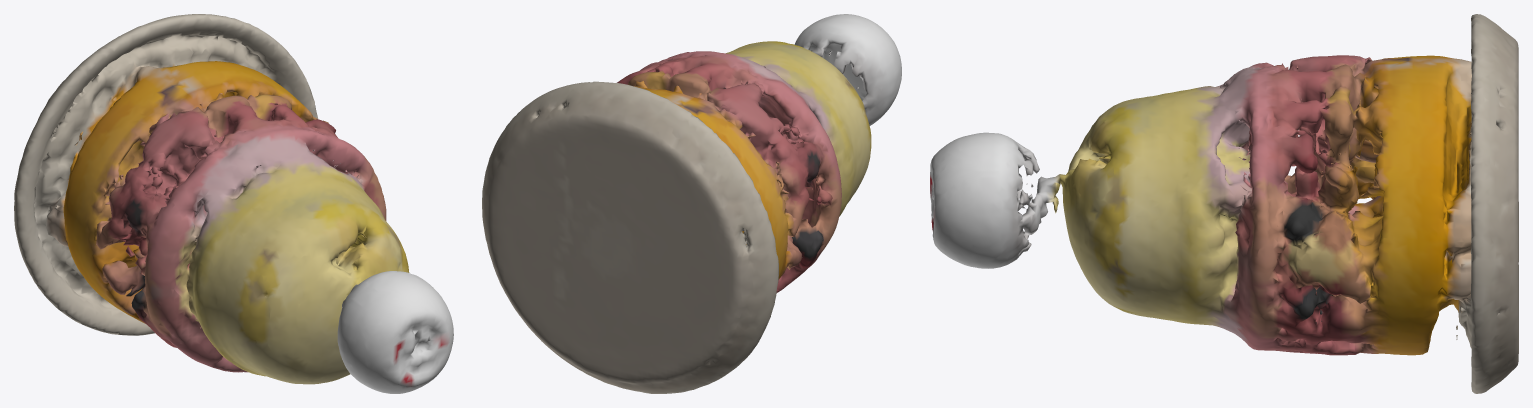
File: chicken.glb
3 renders of one model, left to right at view 1: azimuth 30°, elevation 25°; view 2: azimuth 150°, elevation 25°; view 3: azimuth 270°, elevation 25°, orthographic. The views are drawn at different scales.
Bounding box in the file's own units: 0.6542 × 0.6432 × 0.9995.
